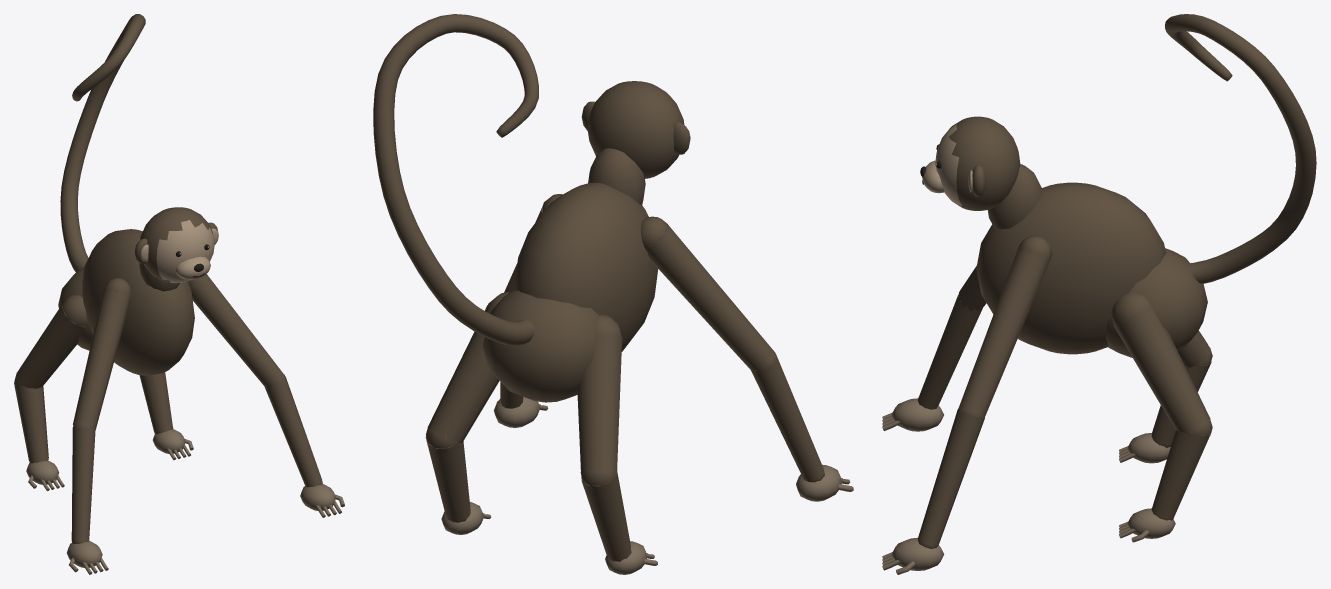
File: monkey_spider.glb
3 renders of one model, left to right at view 1: azimuth 30°, elevation 25°; view 2: azimuth 150°, elevation 25°; view 3: azimuth 270°, elevation 25°, orthographic. The views are drawn at different scales.
Visible parts, largest first — view 1: Spider_Monkey_Slender_Torso, Spider_Monkey_Long_Curling_Tail, Spider_Monkey_Head_With_Surface_Face, Spider_Monkey_Very_Long_Arm_-1_Segment_0, Spider_Monkey_Very_Long_Arm_1_Segment_0, Spider_Monkey_Long_Rear_Leg_-1_Segment_0, Spider_Monkey_Very_Long_Arm_-1_Segment_1, Spider_Monkey_Very_Long_Arm_1_Segment_1, Spider_Monkey_Long_Rear_Leg_-1_Segment_1, Spider_Monkey_Long_Rear_Leg_1_Segment_1, Spider_Monkey_Small_Hips, Spider_Monkey_Grounded_Hand_1_Palm (+6 smaller); view 2: Spider_Monkey_Slender_Torso, Spider_Monkey_Long_Curling_Tail, Spider_Monkey_Small_Hips, Spider_Monkey_Head_With_Surface_Face, Spider_Monkey_Very_Long_Arm_-1_Segment_0, Spider_Monkey_Long_Rear_Leg_-1_Segment_0, Spider_Monkey_Long_Rear_Leg_1_Segment_0, Spider_Monkey_Very_Long_Arm_-1_Segment_1, Spider_Monkey_Long_Rear_Leg_-1_Segment_1, Spider_Monkey_Long_Rear_Leg_1_Segment_1, Spider_Monkey_Connected_Neck, Spider_Monkey_Grounded_Hand_-1_Palm (+4 smaller); view 3: Spider_Monkey_Slender_Torso, Spider_Monkey_Long_Curling_Tail, Spider_Monkey_Head_With_Surface_Face, Spider_Monkey_Very_Long_Arm_1_Segment_0, Spider_Monkey_Long_Rear_Leg_1_Segment_0, Spider_Monkey_Small_Hips, Spider_Monkey_Very_Long_Arm_1_Segment_1, Spider_Monkey_Very_Long_Arm_-1_Segment_1, Spider_Monkey_Long_Rear_Leg_1_Segment_1, Spider_Monkey_Connected_Neck, Spider_Monkey_Grounded_Hand_-1_Palm, Spider_Monkey_Grounded_Hand_1_Palm (+6 smaller).
Part boxes in pixels (left/top/right/bottom): Spider_Monkey_Slender_Torso: left=82, top=229, right=194, bottom=375; Spider_Monkey_Long_Curling_Tail: left=60, top=14, right=145, bottom=271; Spider_Monkey_Head_With_Surface_Face: left=140, top=207, right=214, bottom=283; Spider_Monkey_Very_Long_Arm_-1_Segment_0: left=73, top=288, right=130, bottom=429; Spider_Monkey_Very_Long_Arm_1_Segment_0: left=188, top=274, right=283, bottom=388; Spider_Monkey_Long_Rear_Leg_-1_Segment_0: left=15, top=303, right=85, bottom=388; Spider_Monkey_Very_Long_Arm_-1_Segment_1: left=71, top=427, right=95, bottom=540; Spider_Monkey_Very_Long_Arm_1_Segment_1: left=264, top=376, right=321, bottom=487; Spider_Monkey_Long_Rear_Leg_-1_Segment_1: left=14, top=383, right=48, bottom=461; Spider_Monkey_Long_Rear_Leg_1_Segment_1: left=139, top=372, right=172, bottom=431; Spider_Monkey_Small_Hips: left=58, top=267, right=92, bottom=350; Spider_Monkey_Grounded_Hand_1_Palm: left=300, top=483, right=335, bottom=510; Spider_Monkey_Slender_Torso: left=514, top=182, right=658, bottom=351; Spider_Monkey_Long_Curling_Tail: left=373, top=14, right=538, bottom=345; Spider_Monkey_Small_Hips: left=482, top=289, right=598, bottom=402; Spider_Monkey_Head_With_Surface_Face: left=587, top=81, right=684, bottom=178; Spider_Monkey_Very_Long_Arm_-1_Segment_0: left=646, top=224, right=774, bottom=372; Spider_Monkey_Long_Rear_Leg_-1_Segment_0: left=577, top=335, right=622, bottom=473; Spider_Monkey_Long_Rear_Leg_1_Segment_0: left=427, top=305, right=499, bottom=444; Spider_Monkey_Very_Long_Arm_-1_Segment_1: left=750, top=354, right=824, bottom=481; Spider_Monkey_Long_Rear_Leg_-1_Segment_1: left=581, top=471, right=631, bottom=559; Spider_Monkey_Long_Rear_Leg_1_Segment_1: left=425, top=436, right=470, bottom=520; Spider_Monkey_Connected_Neck: left=588, top=148, right=645, bottom=205; Spider_Monkey_Grounded_Hand_-1_Palm: left=796, top=464, right=842, bottom=501; Spider_Monkey_Slender_Torso: left=976, top=182, right=1165, bottom=354; Spider_Monkey_Long_Curling_Tail: left=1165, top=14, right=1316, bottom=283; Spider_Monkey_Head_With_Surface_Face: left=935, top=116, right=1020, bottom=210; Spider_Monkey_Very_Long_Arm_1_Segment_0: left=959, top=246, right=1050, bottom=417; Spider_Monkey_Long_Rear_Leg_1_Segment_0: left=1113, top=306, right=1210, bottom=432; Spider_Monkey_Small_Hips: left=1105, top=248, right=1207, bottom=357; Spider_Monkey_Very_Long_Arm_1_Segment_1: left=918, top=409, right=984, bottom=545; Spider_Monkey_Very_Long_Arm_-1_Segment_1: left=918, top=295, right=982, bottom=409; Spider_Monkey_Long_Rear_Leg_1_Segment_1: left=1151, top=430, right=1211, bottom=518; Spider_Monkey_Connected_Neck: left=987, top=164, right=1042, bottom=229; Spider_Monkey_Grounded_Hand_-1_Palm: left=891, top=398, right=943, bottom=431; Spider_Monkey_Grounded_Hand_1_Palm: left=891, top=537, right=944, bottom=570.
Size of the model in its own units: 0.562 by 0.8209 by 0.6318.
